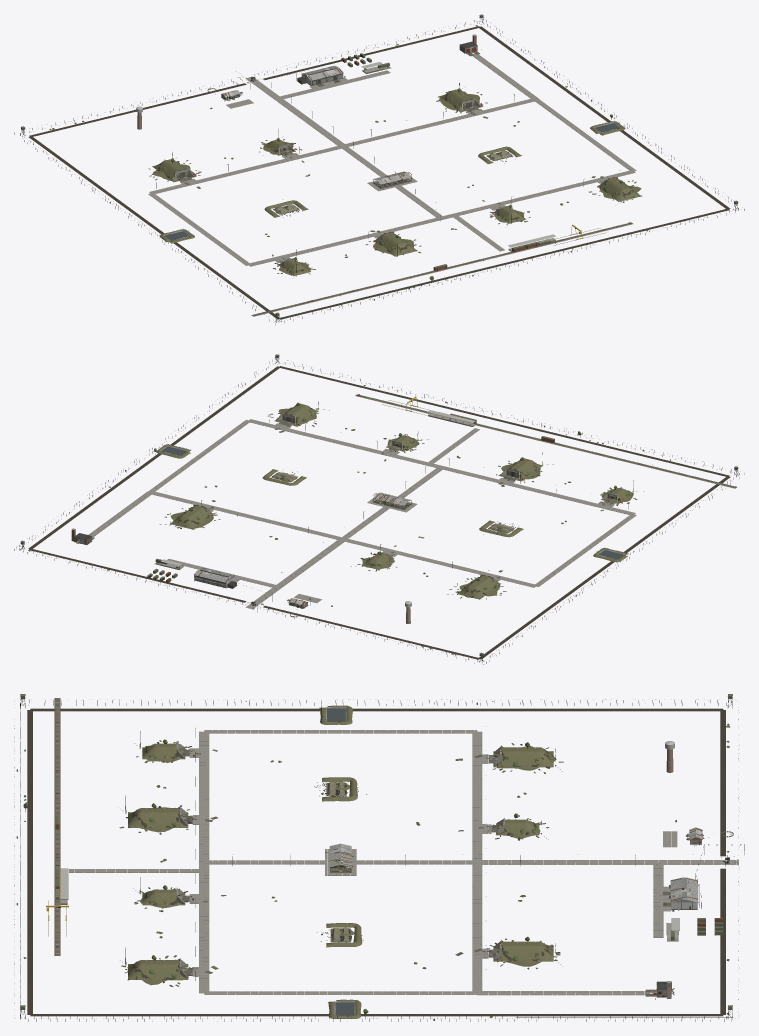
The model's file is site_ammo_city.glb.
3 renders of one model, top to bottom at view 1: azimuth 30°, elevation 25°; view 2: azimuth 150°, elevation 25°; view 3: azimuth 270°, elevation 25°, orthographic. The views are drawn at different scales.
Visible parts, largest first — view 1: deco_roads|tile_conc, deco_rev2|A_A, deco_rail|A_A, deco_fence|A_A, deco_roads2|tile_conc, b_shop|A_A, b_mag3|A_A, b_mag1|A_A; view 2: deco_roads|tile_conc, deco_rev2|A_A, deco_rail|A_A, deco_fence|A_A, deco_roads2|tile_conc, b_shop|A_A, b_mag5|A_A, b_mag7|A_A; view 3: deco_roads|tile_conc, deco_rev2|A_A, deco_rail|A_A, deco_roads2|tile_conc, deco_fence|A_A, b_mag1|A_A, b_mag5|A_A, b_mag7|A_A, b_mag3|A_A, b_shop|A_A, deco_misc|A_A, b_mag3_ruin|A_B (+7 smaller).
Part boxes in pixels (bbox=[...]): deco_roads|tile_conc: bbox=[148, 70, 636, 266]; deco_rev2|A_A: bbox=[28, 26, 730, 319]; deco_rail|A_A: bbox=[251, 222, 632, 316]; deco_fence|A_A: bbox=[14, 18, 744, 325]; deco_roads2|tile_conc: bbox=[453, 53, 538, 251]; b_shop|A_A: bbox=[297, 66, 345, 86]; b_mag3|A_A: bbox=[440, 83, 482, 111]; b_mag1|A_A: bbox=[153, 152, 196, 181]; deco_roads|tile_conc: bbox=[148, 419, 636, 609]; deco_rev2|A_A: bbox=[28, 366, 730, 659]; deco_rail|A_A: bbox=[355, 394, 736, 488]; deco_fence|A_A: bbox=[14, 360, 744, 663]; deco_roads2|tile_conc: bbox=[88, 428, 479, 537]; b_shop|A_A: bbox=[194, 568, 237, 588]; b_mag5|A_A: bbox=[499, 452, 542, 481]; b_mag7|A_A: bbox=[276, 401, 318, 426]; deco_roads|tile_conc: bbox=[189, 730, 738, 994]; deco_rev2|A_A: bbox=[27, 708, 725, 1016]; deco_rail|A_A: bbox=[46, 698, 68, 955]; deco_roads2|tile_conc: bbox=[69, 869, 649, 995]; deco_fence|A_A: bbox=[14, 699, 739, 1021]; b_mag1|A_A: bbox=[489, 742, 556, 767]; b_mag5|A_A: bbox=[125, 796, 192, 827]; b_mag7|A_A: bbox=[125, 948, 192, 979]; b_mag3|A_A: bbox=[489, 936, 556, 961]; b_shop|A_A: bbox=[662, 877, 699, 911]; deco_misc|A_A: bbox=[181, 728, 744, 980]; b_mag3_ruin|A_B: bbox=[455, 938, 560, 969].
Bounding box in the file's own units: 532 × 23.5 × 508.
59 materials, 44 textured.
